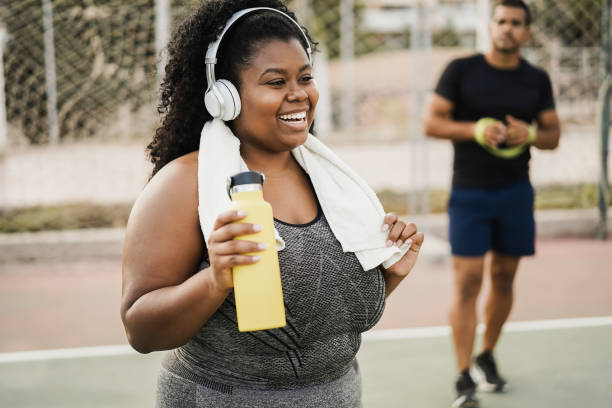without mask: (220, 32, 321, 152), (479, 1, 536, 57)
